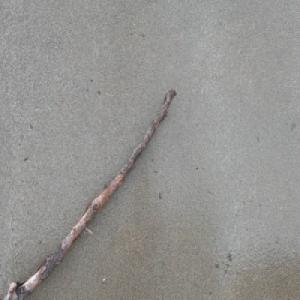Wood: (0, 87, 177, 300)
